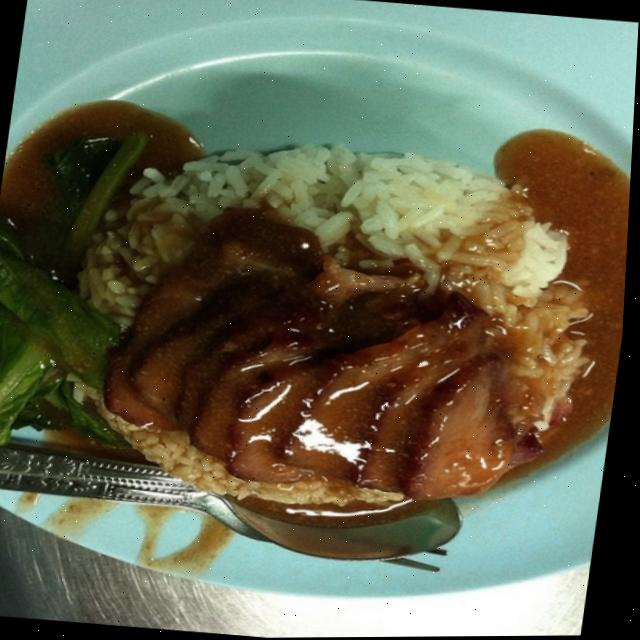猪肉菜式: (0, 15, 639, 599)
